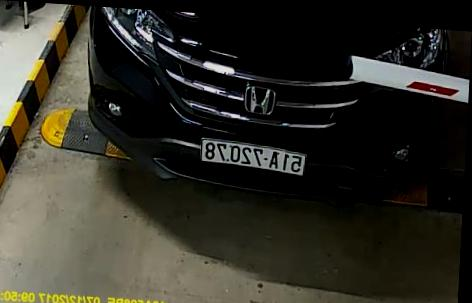License_Plate: (196, 135, 312, 176)
